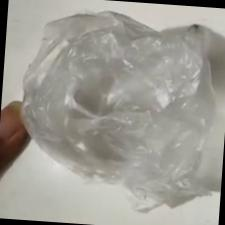Plastik: (13, 4, 225, 214)
